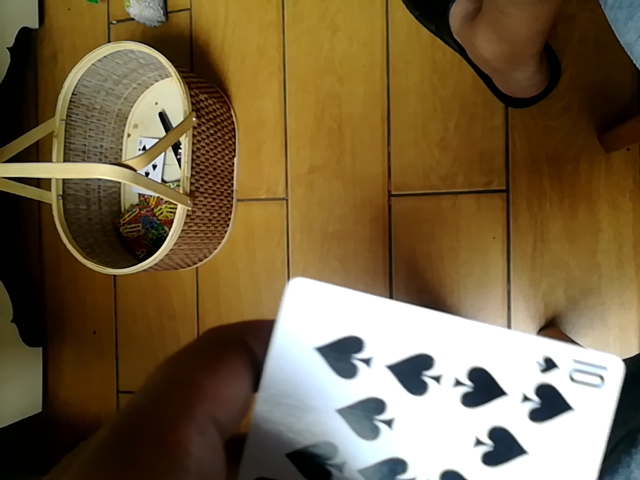ht 10: (242, 279, 612, 479)
